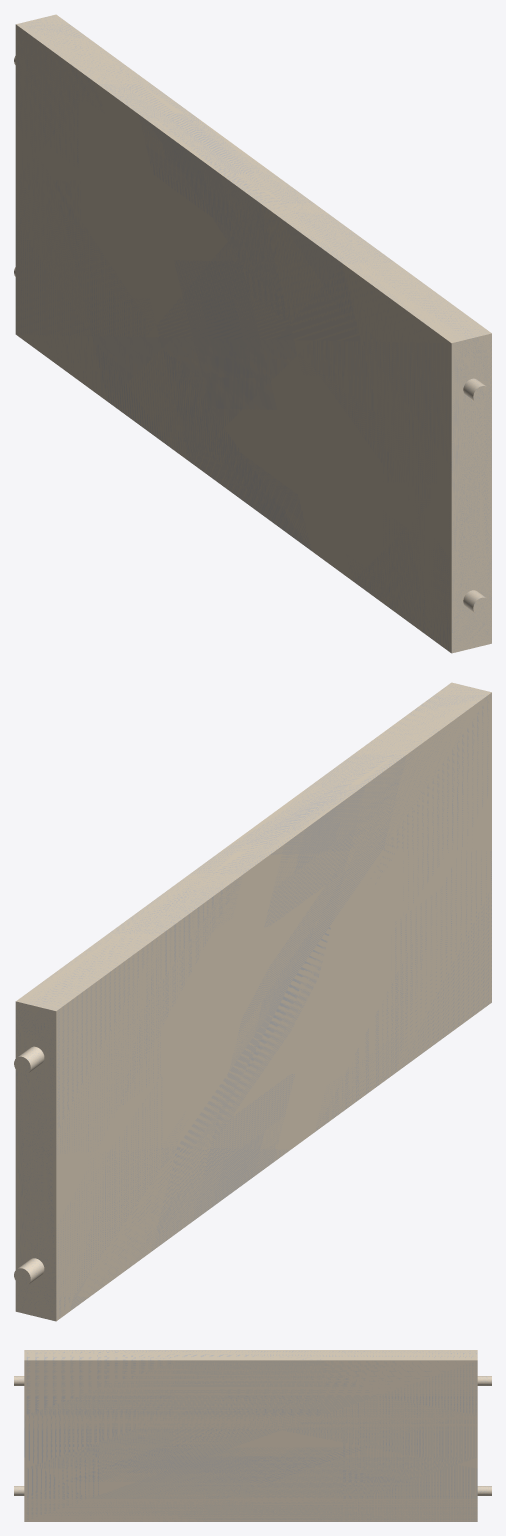
Rendered from original-60.obj.
3 renders of one model, top to bottom at view 1: azimuth 30°, elevation 25°; view 2: azimuth 150°, elevation 25°; view 3: azimuth 270°, elevation 25°, orthographic. The views are drawn at different scales.
Visible parts, largest first — view 1: Component_6_2/Component_6/mesh15/mesh15-geometry#mesh15-geometry; view 2: Component_6_2/Component_6/mesh15/mesh15-geometry#mesh15-geometry; view 3: Component_6_2/Component_6/mesh15/mesh15-geometry#mesh15-geometry.
Part boxes in pixels (box(x1,y1,x2,y2)): Component_6_2/Component_6/mesh15/mesh15-geometry#mesh15-geometry: box(14, 14, 491, 653); Component_6_2/Component_6/mesh15/mesh15-geometry#mesh15-geometry: box(14, 682, 491, 1321); Component_6_2/Component_6/mesh15/mesh15-geometry#mesh15-geometry: box(14, 1350, 491, 1521).
Bounding box in the file's own units: 0.0131 × 0.0964 × 0.2587.
